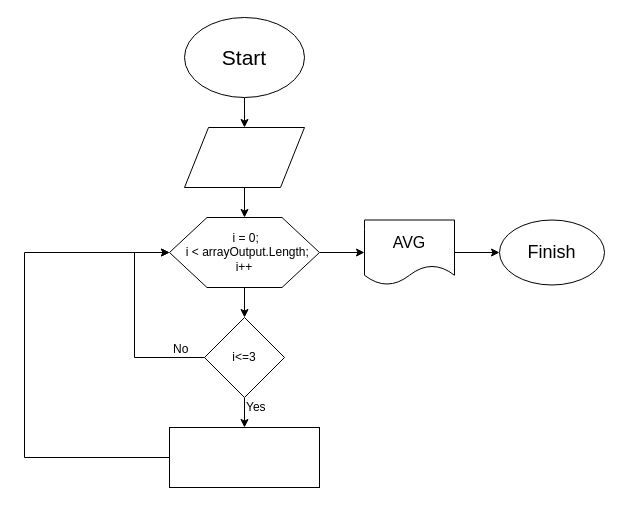
Image size: 622x505. Some labels were removed from this diagram. Each missing label, with the centre of its shape:
InputArray[], SortArray[], j=0: the point at 244,157
SortArray[j] = InputArray[i] j++: the point at 244,457
